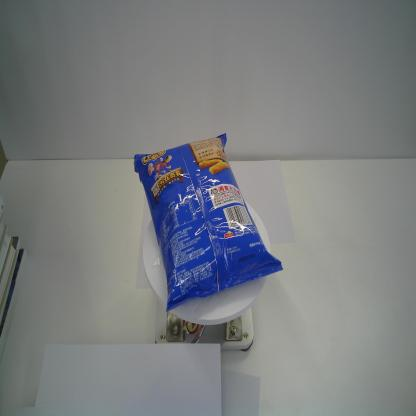Puffed Food: (132, 130, 284, 314)
